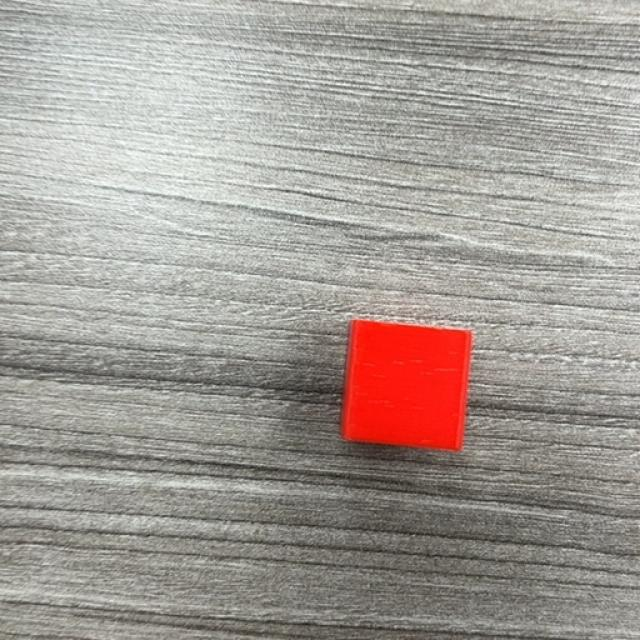Rojo: (342, 320, 475, 454)
